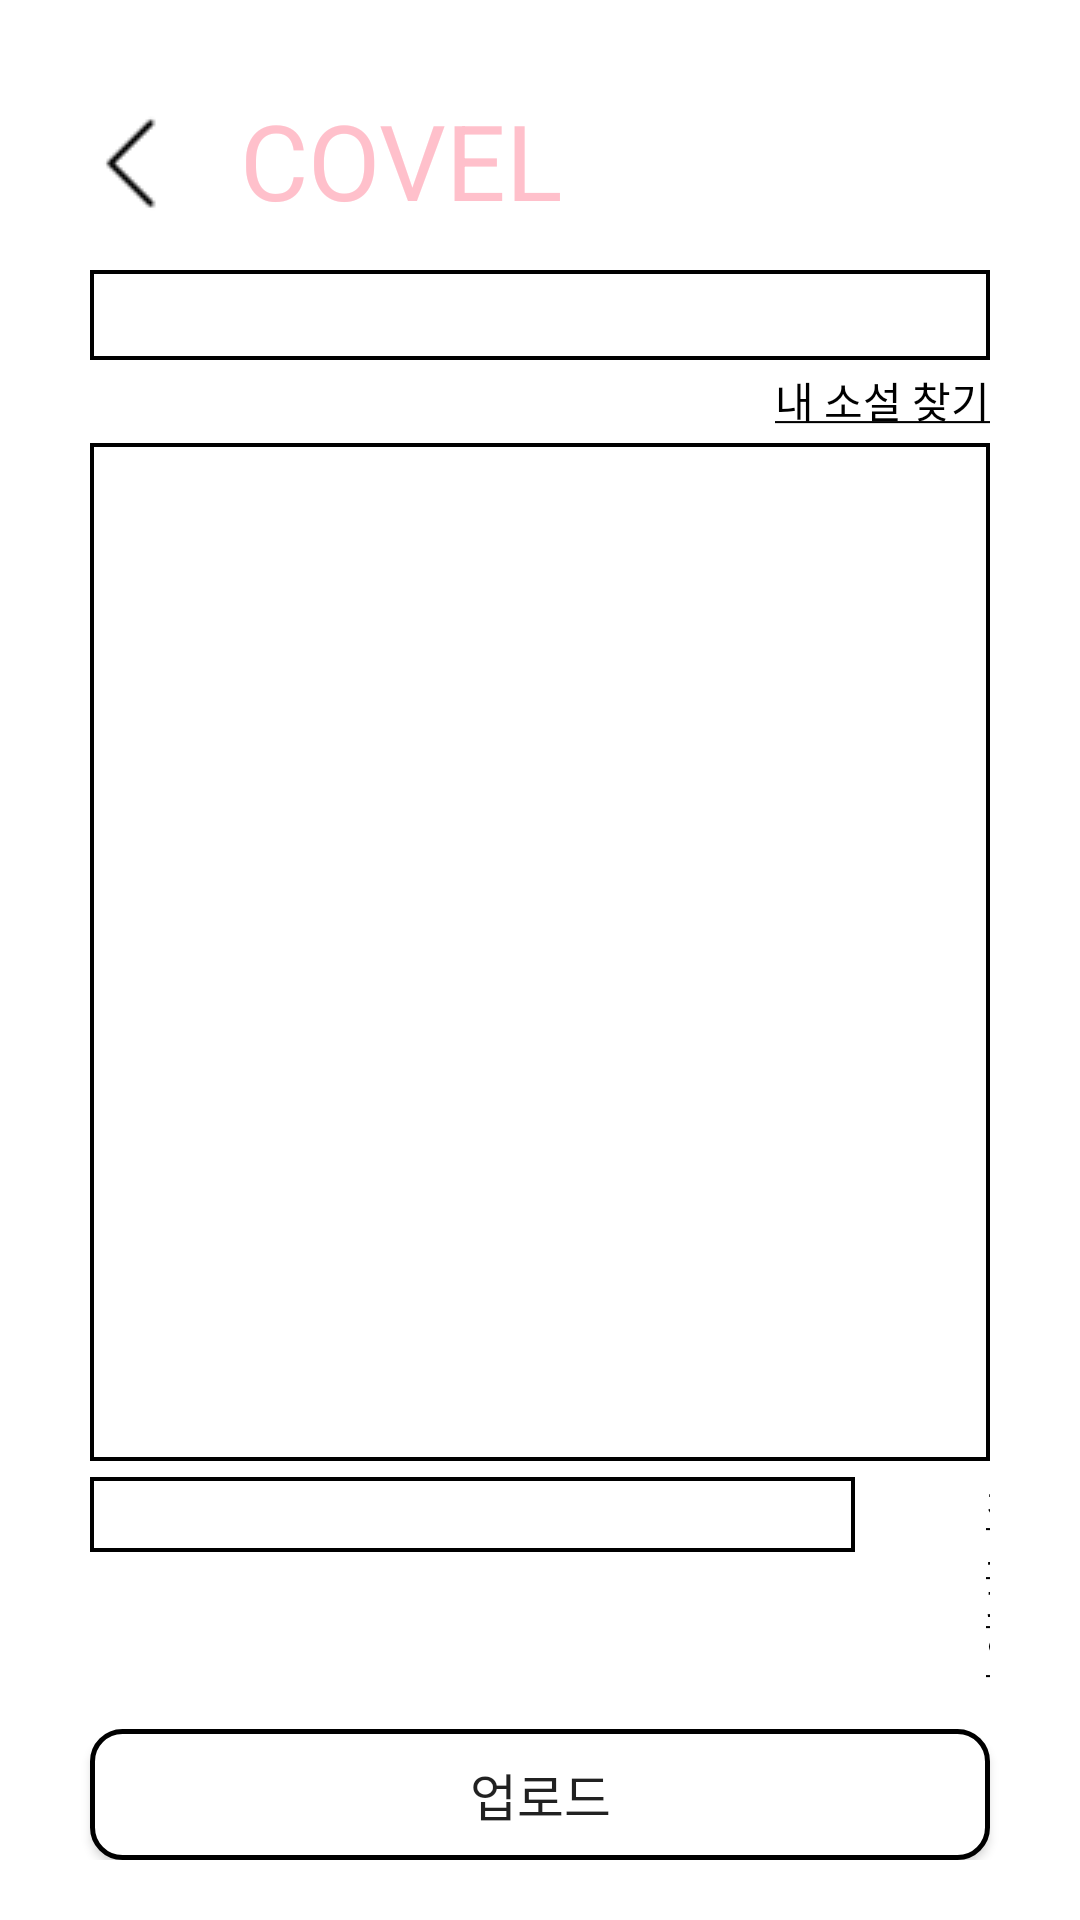

Screen size 1080px×1920px. Icon name, then its center in pixels as [x,y]:
backbutton: [131,163]
